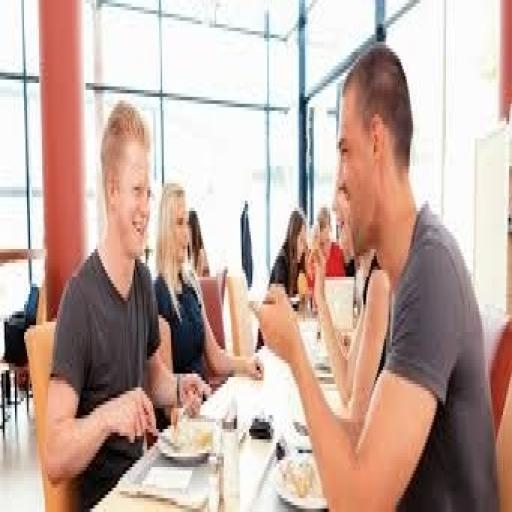eating: (256, 42, 502, 508), (44, 97, 212, 508)
